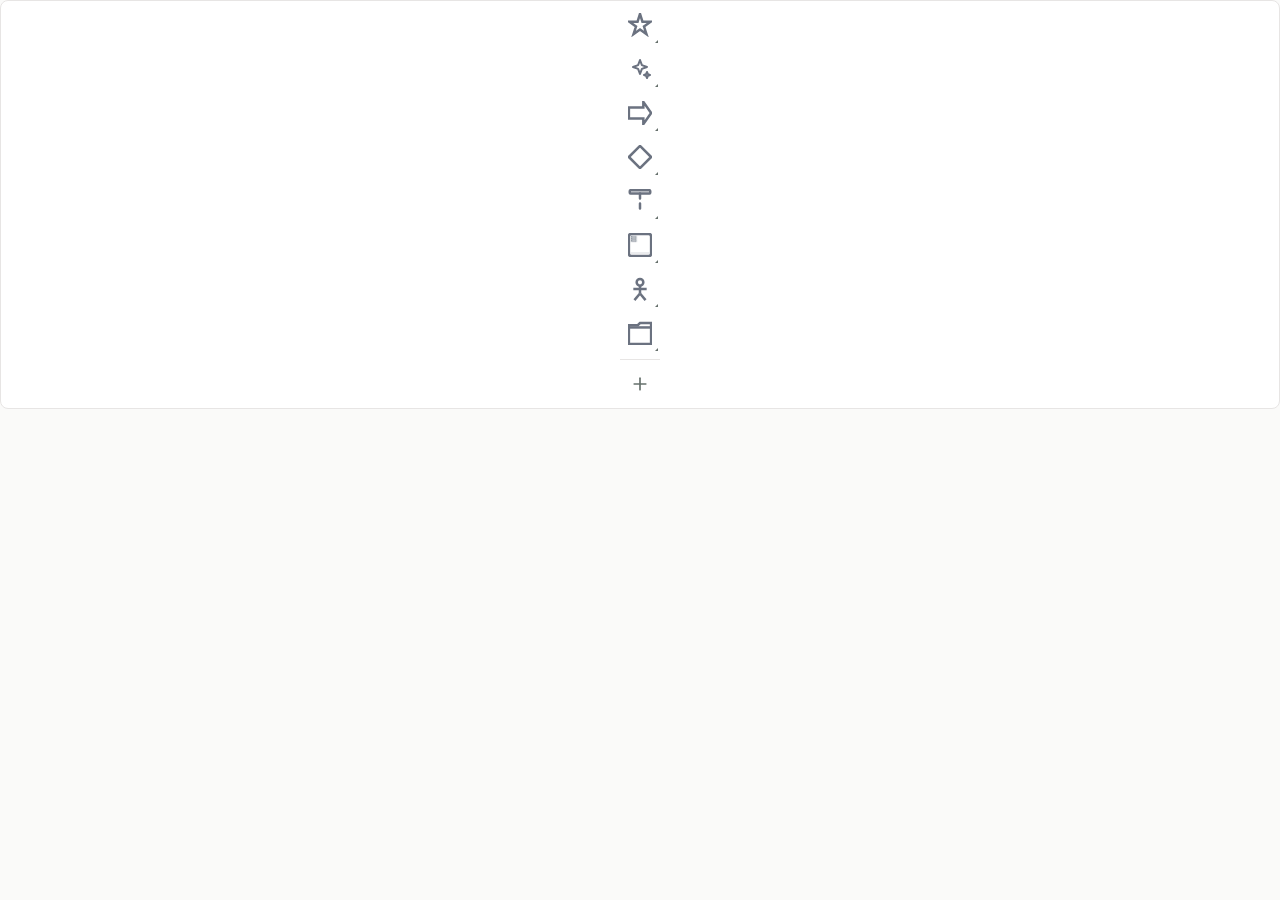
Test case: CollapsedElementsRail accessibility › inserts sequence tools with useful diagram labels instead of catalogue names
Click the button named "Sequence elements, Participant selected": (640, 201) [620, 181, 660, 221]
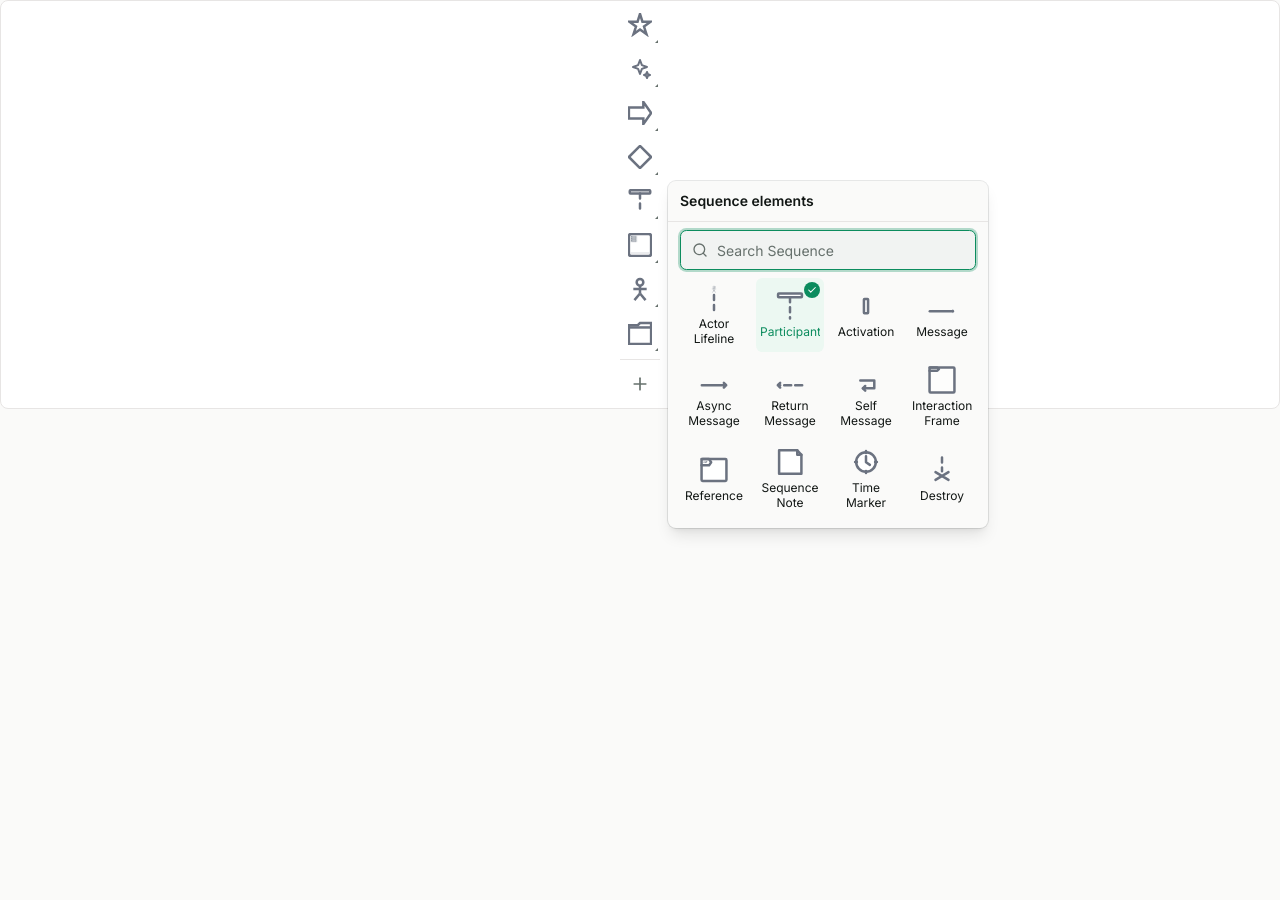
Click the button with aria-label "Connect Message between participants": (942, 315) [908, 278, 976, 352]
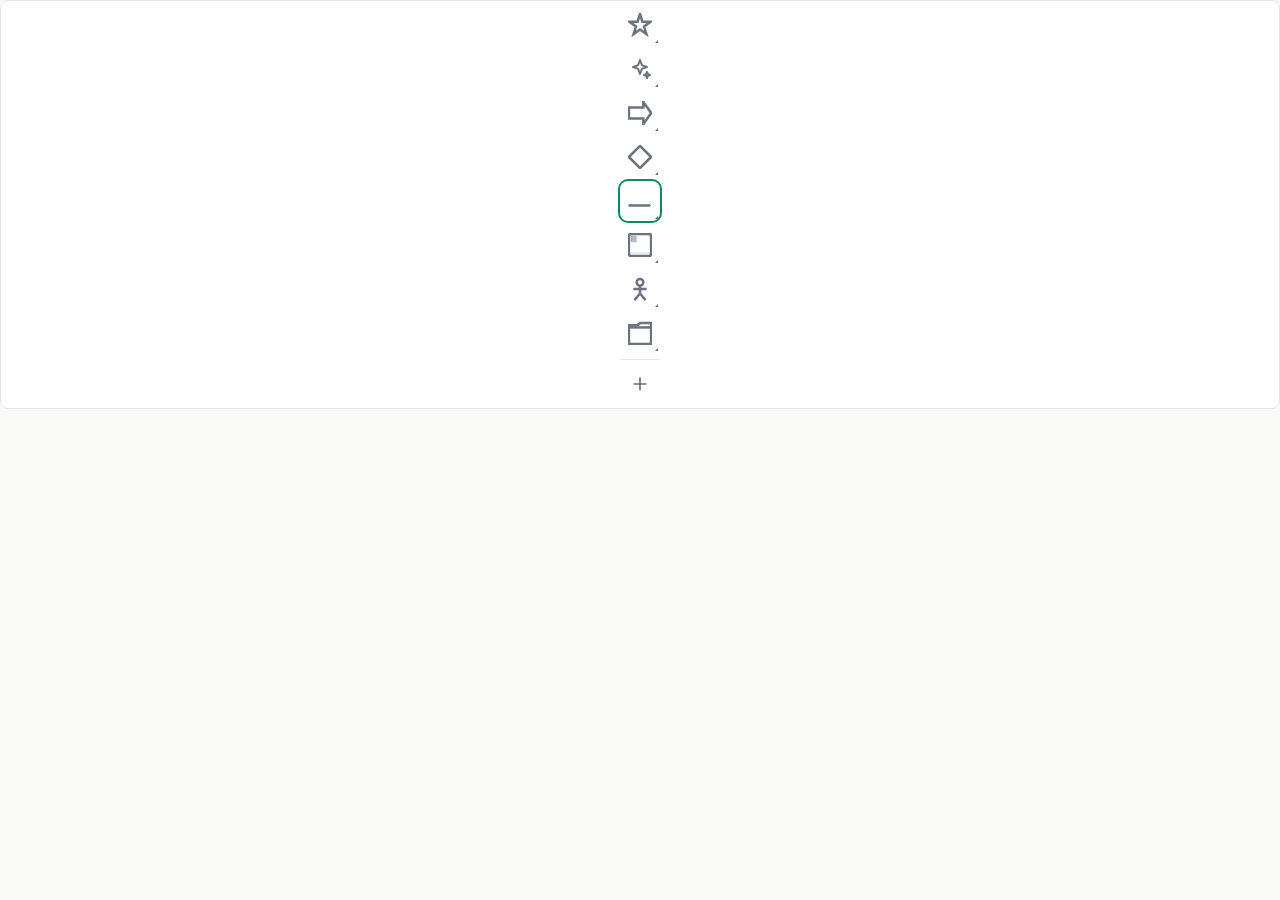
Result: the button named "Sequence elements, Message selected" is shown at [620, 181, 660, 221]
